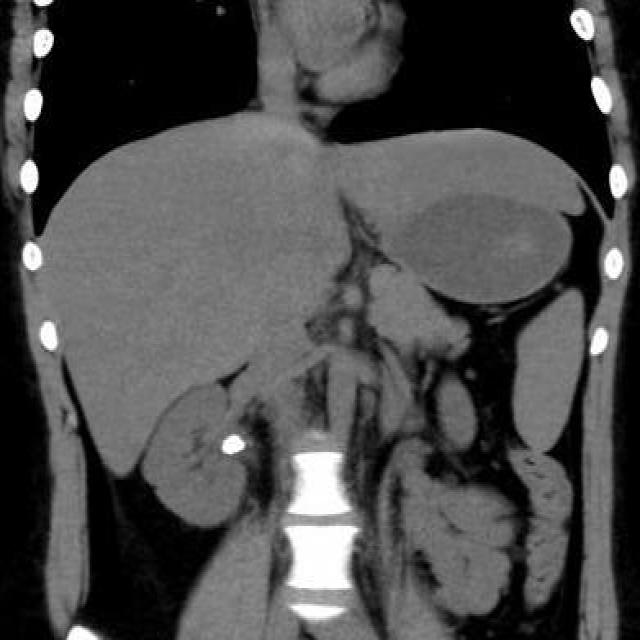Tas_Var: (218, 430, 250, 460)
